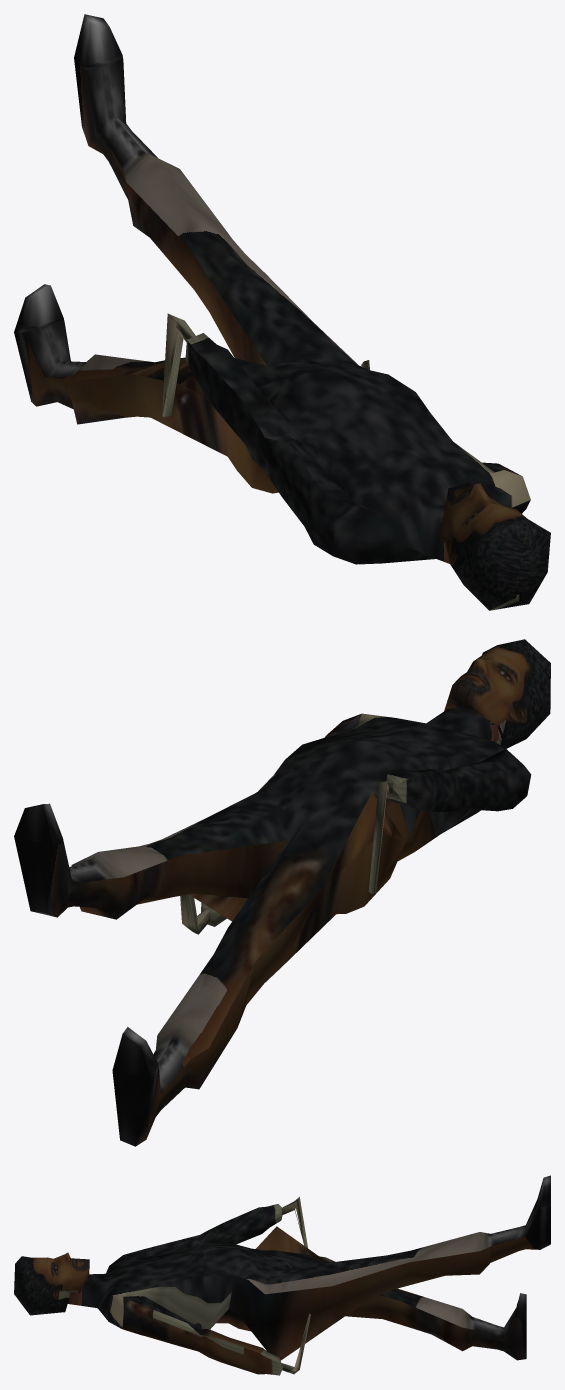
File: npc_jaka_ronda_walk1.obj
3 renders of one model, top to bottom at view 1: azimuth 30°, elevation 25°; view 2: azimuth 150°, elevation 25°; view 3: azimuth 270°, elevation 25°, orthographic. The views are drawn at different scales.
Parts seen in each view (by area): view 1: npc_jaka_ronda_walk1; view 2: npc_jaka_ronda_walk1; view 3: npc_jaka_ronda_walk1.
Part boxes in pixels (x1,y1,x2,y2): npc_jaka_ronda_walk1: (14, 14, 550, 610); npc_jaka_ronda_walk1: (14, 639, 550, 1146); npc_jaka_ronda_walk1: (14, 1175, 550, 1375).
Size of the model in its own units: 0.4716 by 0.7267 by 1.75.
Materials: 1 (1 with a texture image).
